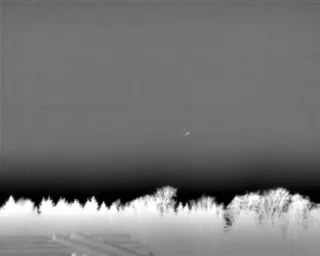BIRD: (183, 129, 191, 139)
